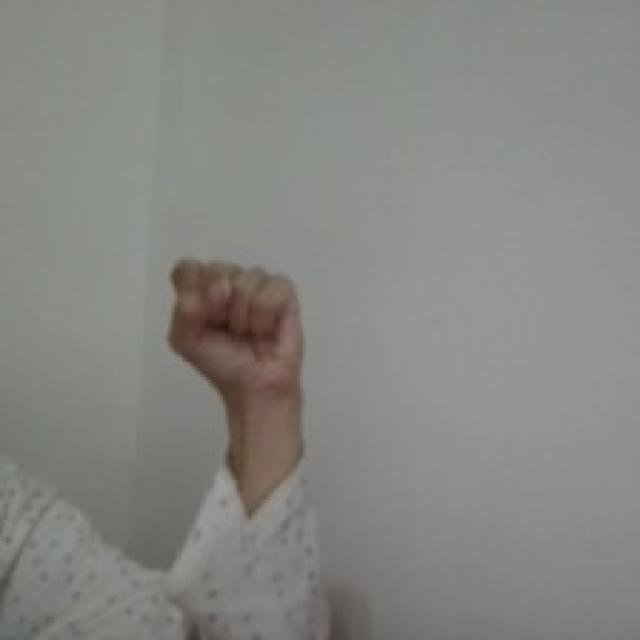yes: (167, 250, 308, 392)
